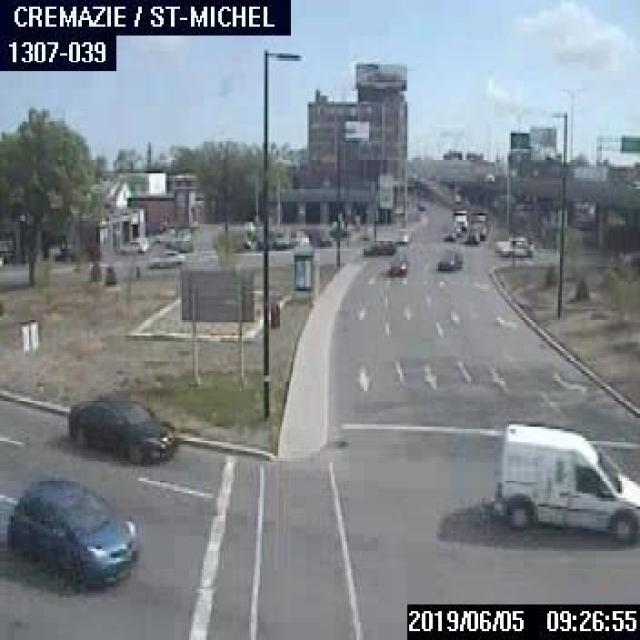vehicle: (489, 420, 638, 544), (5, 476, 138, 586), (66, 384, 176, 462), (146, 248, 186, 267), (435, 244, 462, 271), (384, 250, 407, 276), (492, 233, 525, 251), (469, 209, 487, 237), (117, 235, 147, 251), (450, 203, 468, 229), (499, 241, 531, 255), (391, 224, 409, 244), (464, 227, 478, 243), (440, 225, 454, 239), (449, 219, 460, 235)
